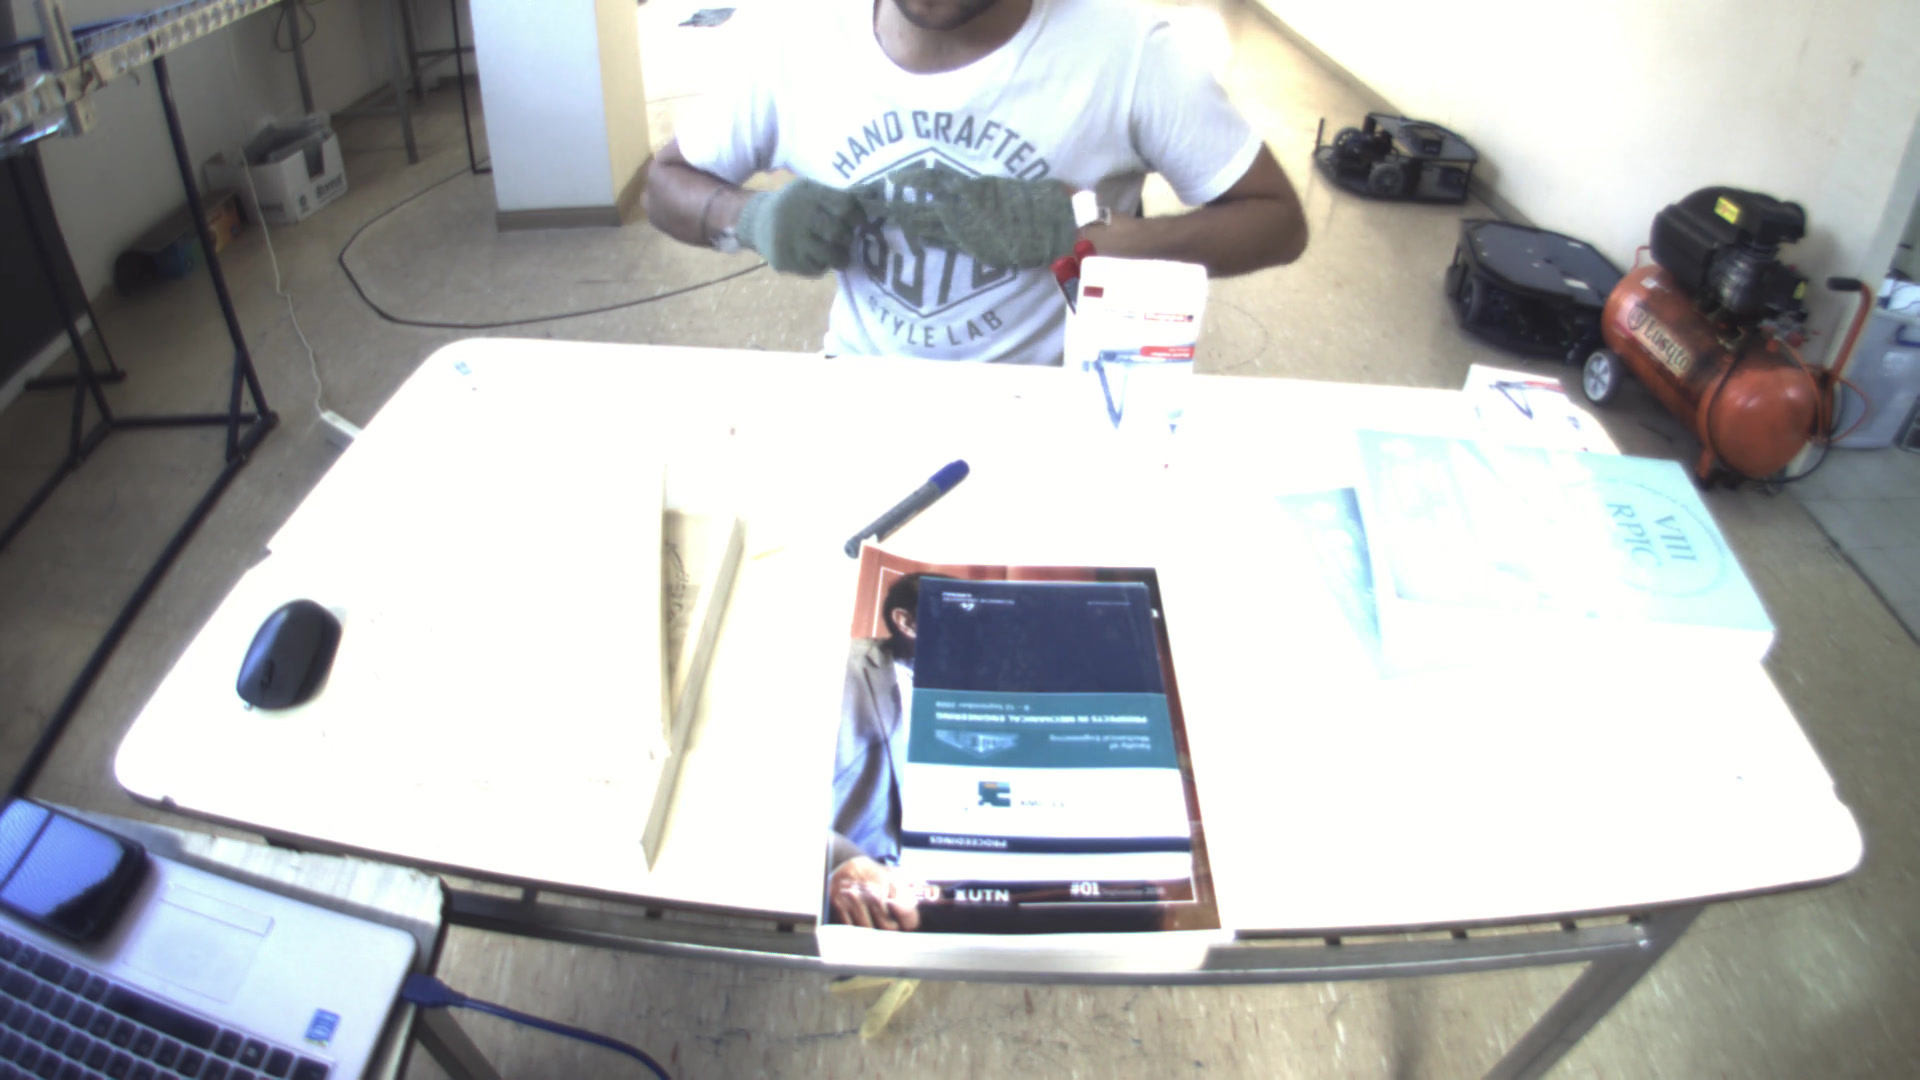hand: (903, 157, 1084, 268), (735, 161, 873, 280)
